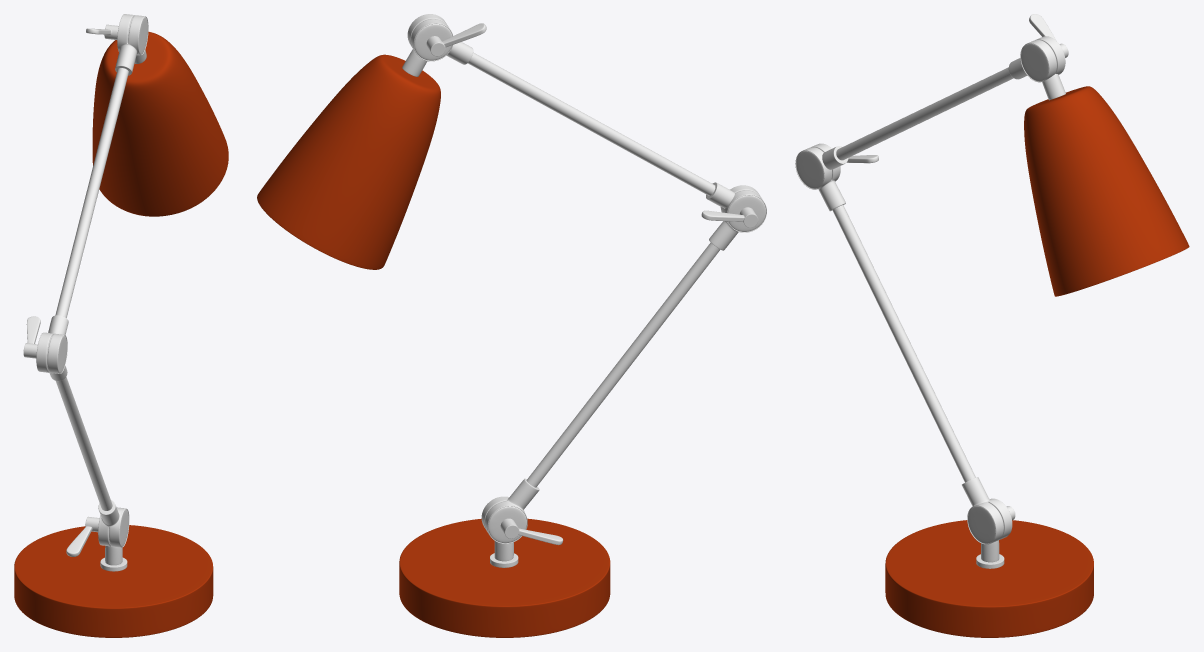
The model's file is Lampara_ciencias_basicas.glb.
3 views of the same model, side by side, from view 1: azimuth 30°, elevation 25°; view 2: azimuth 150°, elevation 25°; view 3: azimuth 270°, elevation 25° (orthographic). The views are drawn at different scales.
Visible parts, largest first — view 1: Export_habitacion:CB_Lampara1; view 2: Export_habitacion:CB_Lampara1; view 3: Export_habitacion:CB_Lampara1.
Part boxes in pixels (x1,y1,x2,y2): Export_habitacion:CB_Lampara1: (14, 14, 228, 637); Export_habitacion:CB_Lampara1: (257, 14, 766, 637); Export_habitacion:CB_Lampara1: (795, 14, 1189, 637).
Bounding box in the file's own units: 0.0189 × 0.0302 × 0.0186.
